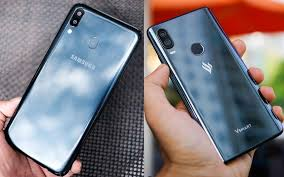samsung: (3, 1, 138, 177)
vsmart: (148, 6, 281, 164)
